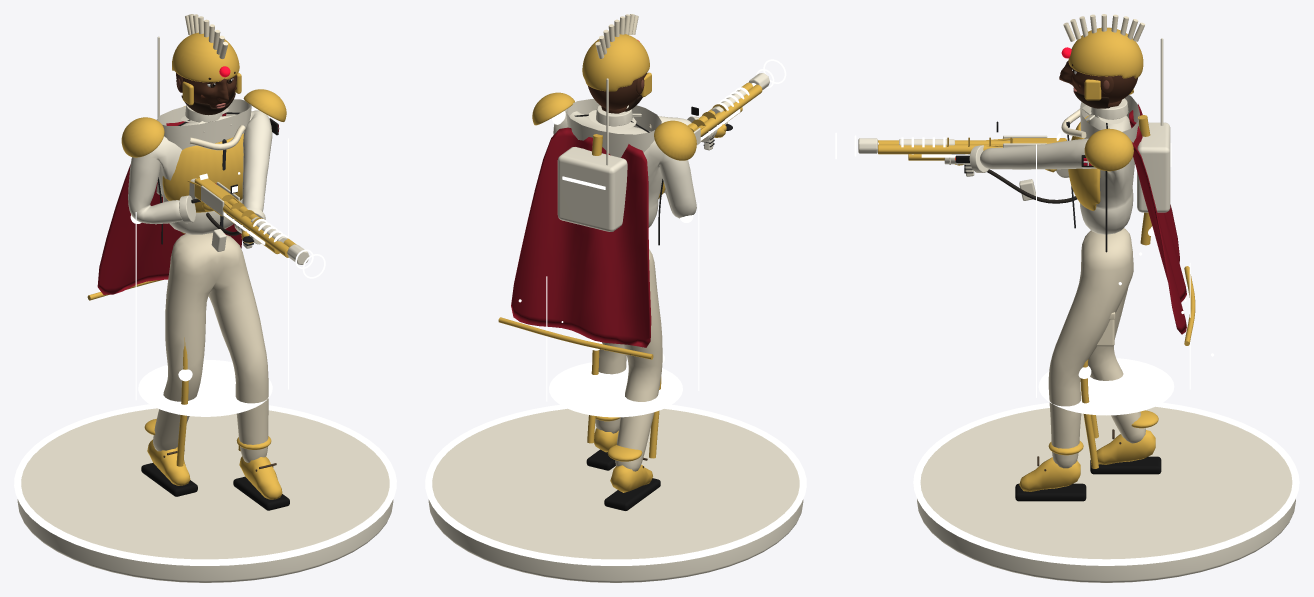
File: hagl_guld.glb
The picture shows the model from 3 angles, left to right: view 1: azimuth 30°, elevation 25°; view 2: azimuth 150°, elevation 25°; view 3: azimuth 270°, elevation 25°; orthographic projection.
Visible parts, largest first — view 1: fod_net, menneske_net, op2.001_net, hoved_net, op4.001_net, vaaben_net, op3_net, op4.002_net, op4_net, op2_net; view 2: fod_net, op2.001_net, menneske_net, op3.001_net, op4.001_net, hoved_net, op4.002_net, vaaben_net, op4_net, op3_net; view 3: fod_net, menneske_net, op2.001_net, hoved_net, op4.001_net, op3.001_net, vaaben_net, op4.002_net, op3_net, op2_net.
Boxes of the visible parts, x1=… form: fod_net: x1=14, y1=404, x2=396, y2=582; menneske_net: x1=128, y1=99, x2=289, y2=510; op2.001_net: x1=87, y1=89, x2=286, y2=300; hoved_net: x1=172, y1=14, x2=241, y2=115; op4.001_net: x1=135, y1=138, x2=288, y2=416; vaaben_net: x1=189, y1=178, x2=296, y2=257; op3_net: x1=199, y1=173, x2=309, y2=264; op4.002_net: x1=130, y1=106, x2=258, y2=466; op4_net: x1=223, y1=212, x2=325, y2=278; op2_net: x1=187, y1=180, x2=253, y2=251; fod_net: x1=425, y1=405, x2=806, y2=582; op2.001_net: x1=498, y1=92, x2=696, y2=359; menneske_net: x1=553, y1=99, x2=732, y2=510; op3.001_net: x1=557, y1=78, x2=627, y2=231; op4.001_net: x1=518, y1=203, x2=699, y2=417; hoved_net: x1=582, y1=14, x2=651, y2=111; op4.002_net: x1=552, y1=111, x2=693, y2=458; vaaben_net: x1=689, y1=82, x2=762, y2=142; op4_net: x1=700, y1=59, x2=786, y2=140; op3_net: x1=693, y1=73, x2=769, y2=144; fod_net: x1=913, y1=402, x2=1299, y2=582; menneske_net: x1=955, y1=95, x2=1161, y2=501; op2.001_net: x1=1061, y1=89, x2=1195, y2=345; hoved_net: x1=1059, y1=14, x2=1145, y2=108; op4.001_net: x1=1036, y1=144, x2=1213, y2=415; op3.001_net: x1=1137, y1=38, x2=1171, y2=212; vaaben_net: x1=878, y1=137, x2=1066, y2=164; op4.002_net: x1=1078, y1=115, x2=1154, y2=468; op3_net: x1=858, y1=133, x2=1060, y2=153; op2_net: x1=955, y1=121, x2=1035, y2=200.
Size of the model in its own units: 1.94 by 2.7 by 2.33.
